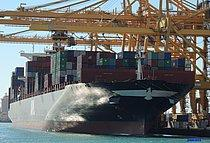Ship: (7, 46, 198, 140)
